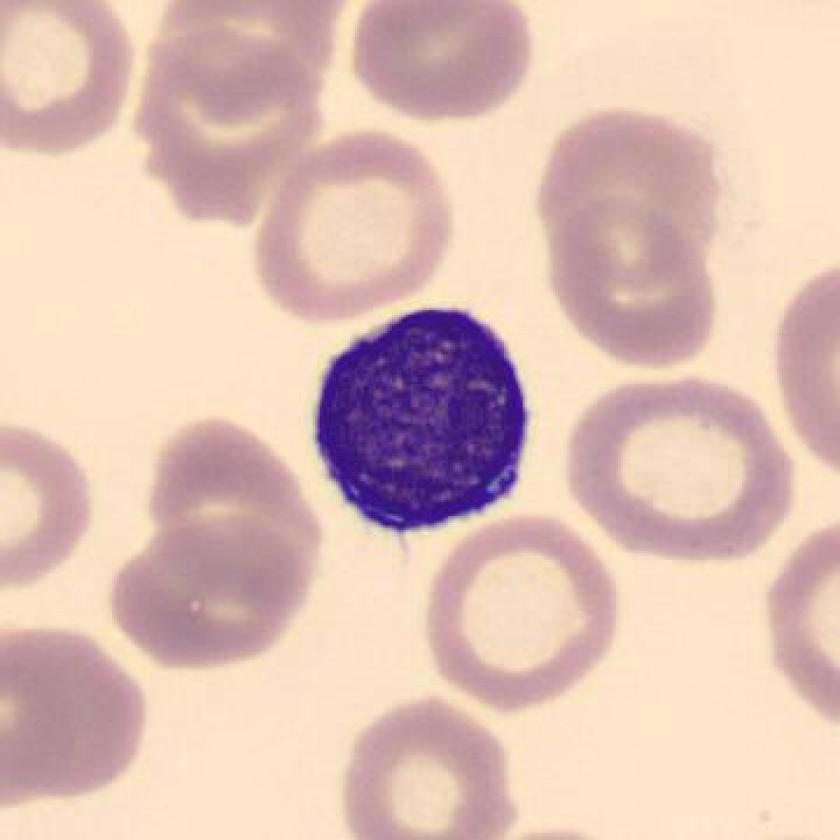lymphocyte: (302, 293, 545, 561)
